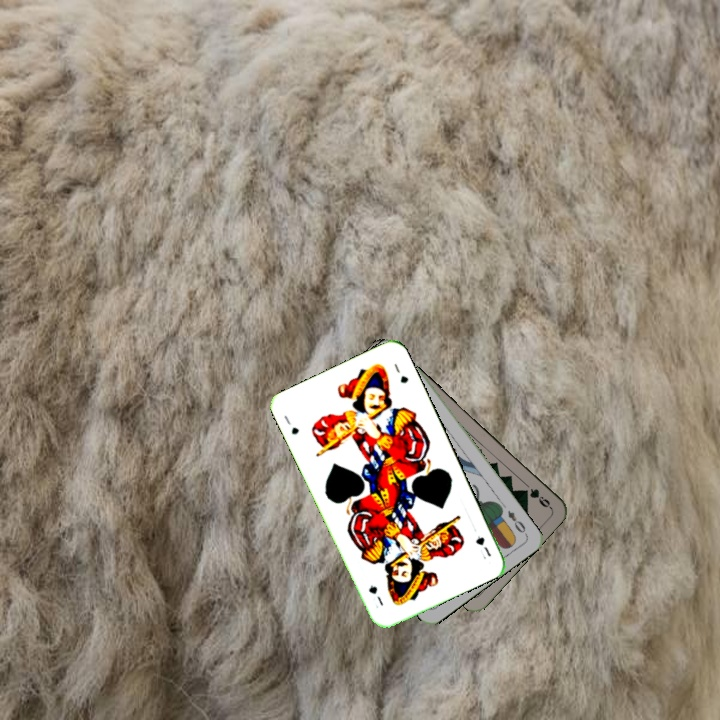EO: (503, 506, 530, 538)
G9: (520, 479, 553, 511)
GU: (471, 532, 494, 559), (280, 411, 301, 437)
